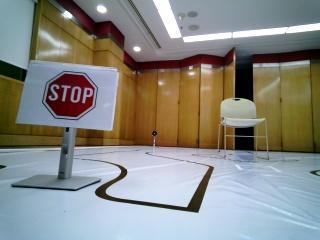stop: (21, 69, 116, 129)
